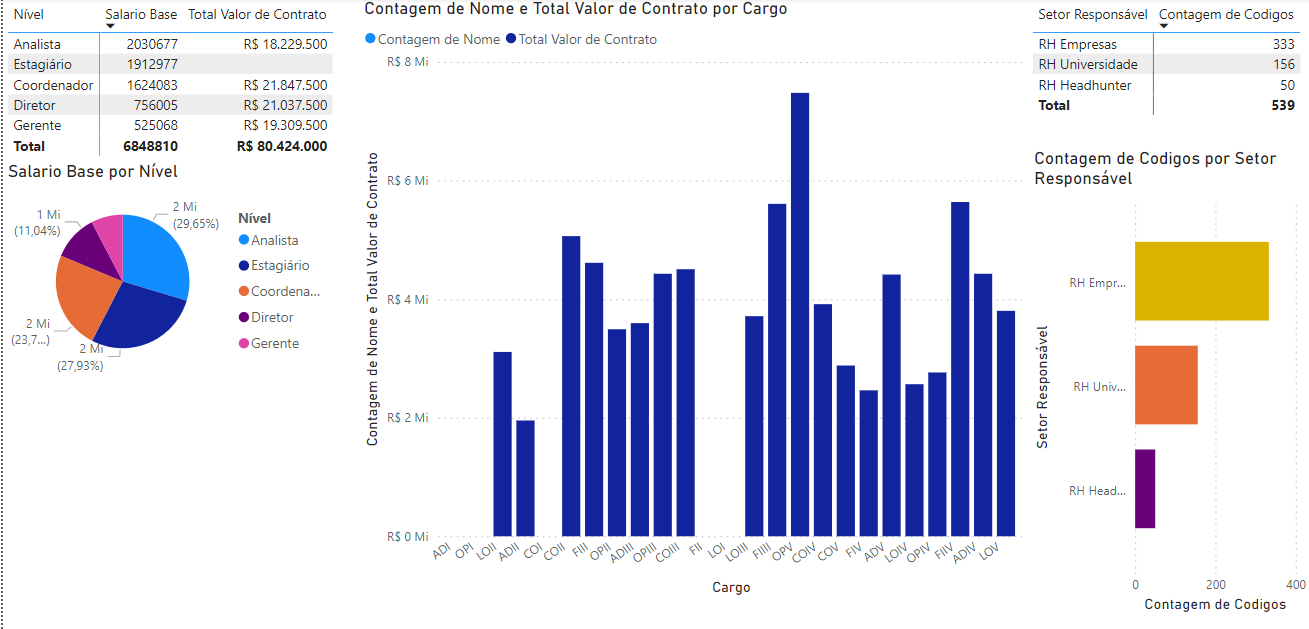

This screenshot's page, from the dashboard's own definition file:
{"tool":"powerbi","page":{"name":"Geral","canvas":[1280,720],"ordinal":0},"visuals":[{"type":"pivotTable","fields":{"Rows":["Nivel.Setor Responsável"],"Values":["Count(Funcionários.Codigos)"]},"box":[1003.2,0,277.3,129.7],"z":0},{"type":"pivotTable","fields":{"Rows":["Cargos.Nível"],"Values":["Sum(Funcionários.Salario Base)","Clientes.Total Valor de Contrato"]},"box":[0,0,332,159.5],"z":1000},{"type":"columnChart","fields":{"Category":["Cargos.Cargo"],"Y":["CountNonNull(Funcionários.Nome)","Clientes.Total Valor de Contrato"]},"box":[348.5,0,655.9,589.3],"z":2000},{"type":"pieChart","fields":{"Y":["Sum(Funcionários.Salario Base)"],"Category":["Cargos.Nível"]},"box":[0,158.5,331.6,217.8],"z":2001},{"type":"barChart","fields":{"Category":["Nivel.Setor Responsável"],"Y":["CountNonNull(Funcionários.Codigos)"]},"box":[1004.4,146.4,275.9,459.8],"z":2002}]}

Visuals, with their boxes on the page's 1280x720 design canvas (x1, y1, x2, y2). These are canvas units, not pixel positions in the 1309x629 screenshot, which may show the page scaled, cropped or inside an application window:
pivotTable - Nivel.Setor Responsável x Count(Funcionários.Codigos): detection(1003, 0, 1280, 130)
pivotTable - Cargos.Nível x Sum(Funcionários.Salario Base): detection(0, 0, 332, 160)
columnChart - Cargos.Cargo x CountNonNull(Funcionários.Nome): detection(348, 0, 1004, 589)
pieChart - Sum(Funcionários.Salario Base) x Cargos.Nível: detection(0, 158, 332, 376)
barChart - Nivel.Setor Responsável x CountNonNull(Funcionários.Codigos): detection(1004, 146, 1280, 606)
